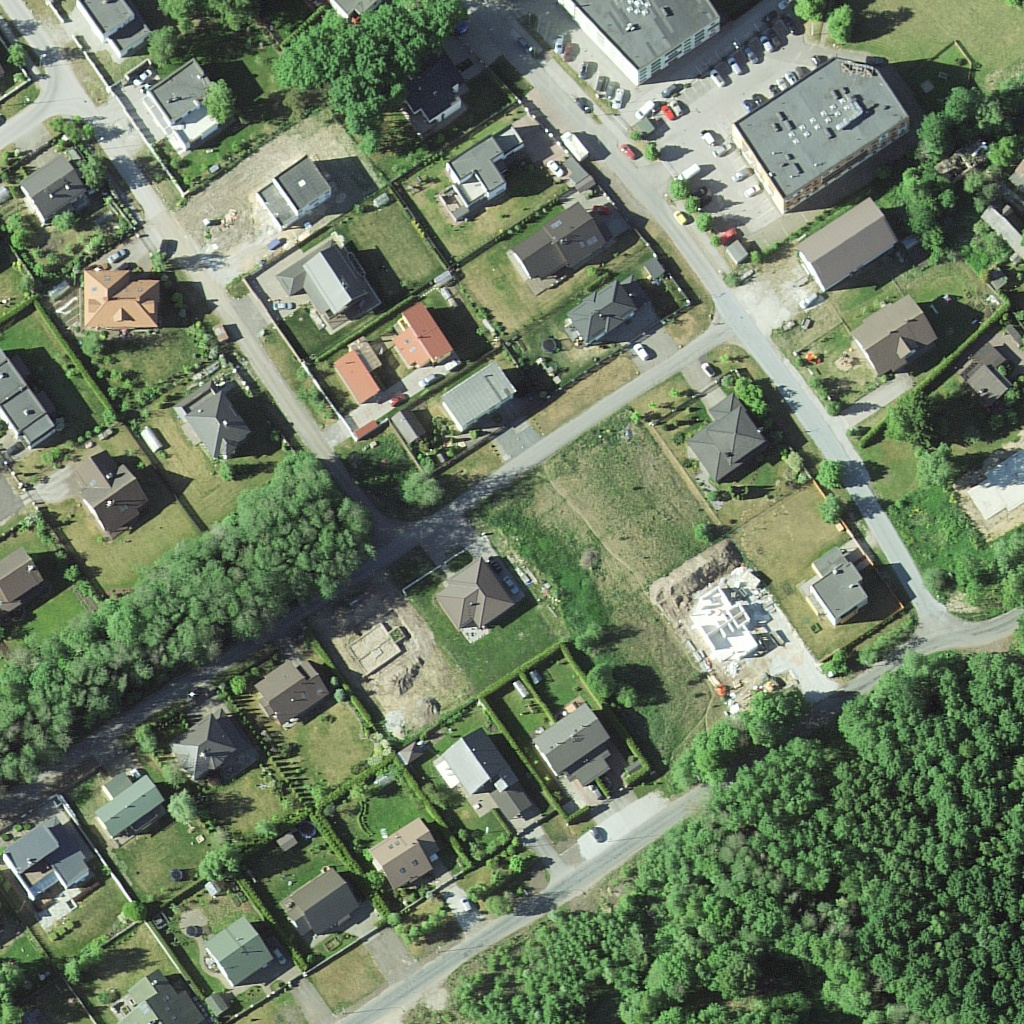building: (744, 57, 907, 208), (564, 1, 721, 88), (795, 199, 902, 289), (17, 790, 92, 903), (510, 205, 609, 288), (138, 58, 223, 149), (437, 732, 523, 816), (282, 243, 372, 316), (441, 133, 521, 213), (84, 257, 167, 333), (1, 345, 63, 445), (858, 295, 934, 372), (171, 381, 249, 455), (542, 701, 614, 781), (697, 397, 763, 484), (438, 364, 520, 433), (68, 446, 141, 523), (261, 658, 336, 732), (434, 565, 520, 628), (281, 872, 367, 928), (262, 157, 327, 228), (567, 277, 635, 342), (101, 776, 165, 843), (20, 156, 85, 221), (75, 1, 150, 57), (814, 541, 864, 622), (376, 821, 440, 884), (394, 308, 457, 372), (208, 924, 268, 989), (123, 975, 196, 1024), (174, 721, 238, 775), (336, 343, 383, 409), (1, 552, 47, 613), (969, 349, 1009, 401)
